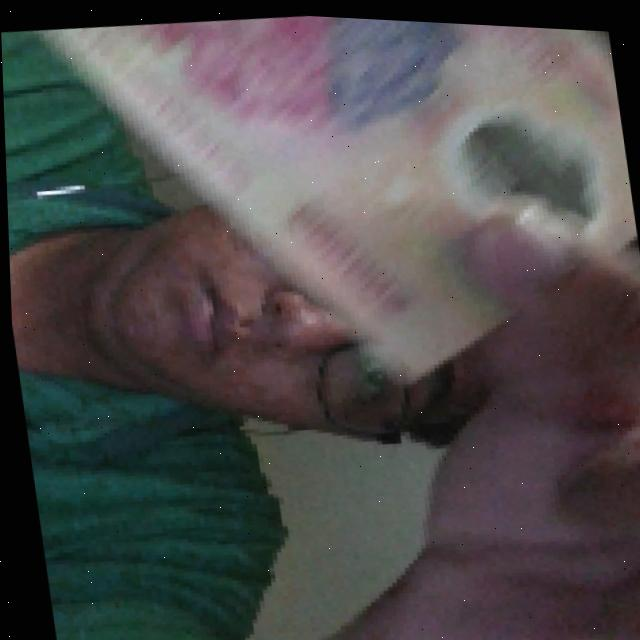200 000 VND: (0, 0, 640, 433)
